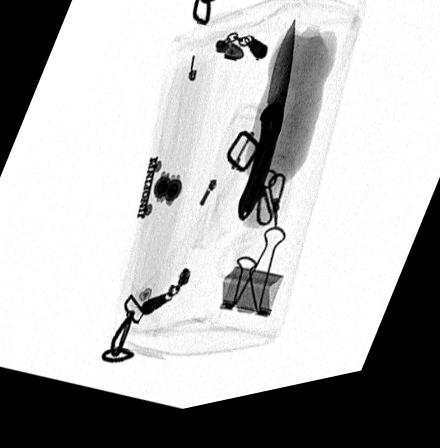Knife: (236, 29, 295, 232)
